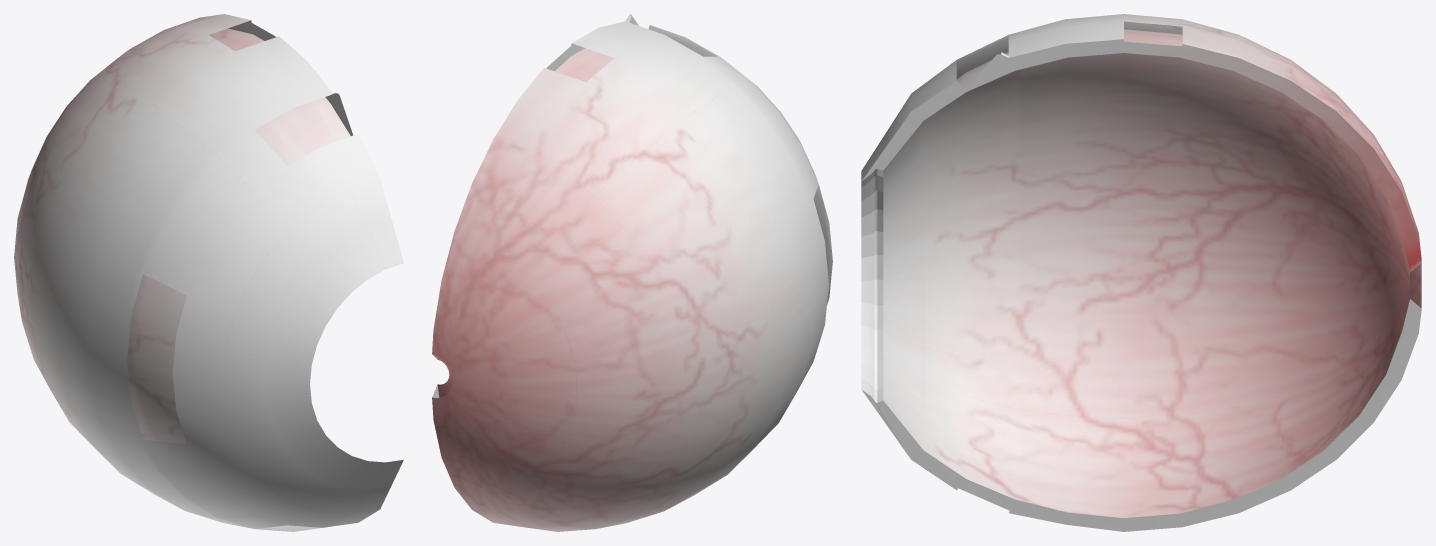
The model's file is Esclerótica.FBX.
3 views of the same model, side by side, from view 1: azimuth 30°, elevation 25°; view 2: azimuth 150°, elevation 25°; view 3: azimuth 270°, elevation 25° (orthographic). The views are drawn at different scales.
Visible parts, largest first — view 1: sclera right; view 2: sclera right; view 3: sclera right.
Part boxes in pixels (<box>): sclera right: <box>14,14,403,531</box>; sclera right: <box>432,14,832,531</box>; sclera right: <box>861,14,1421,531</box>.
Bounding box in the file's own units: 0.3949 × 0.7892 × 0.8138.
1 material, 1 textured.
